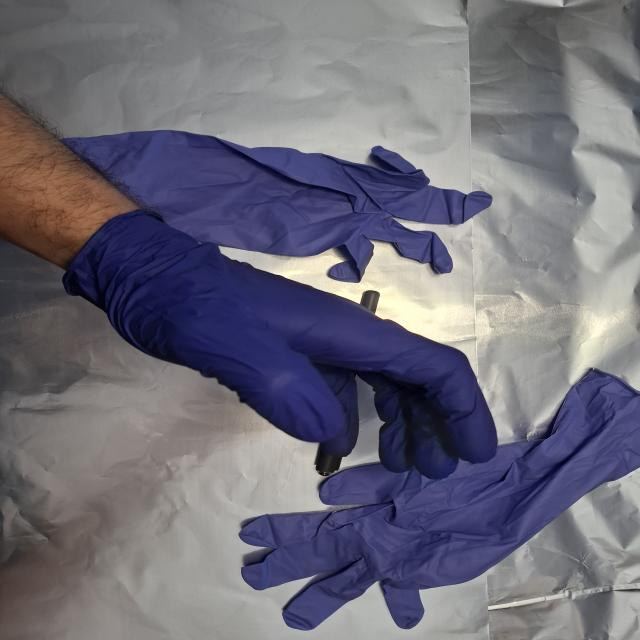glove_on: (70, 208, 502, 483)
